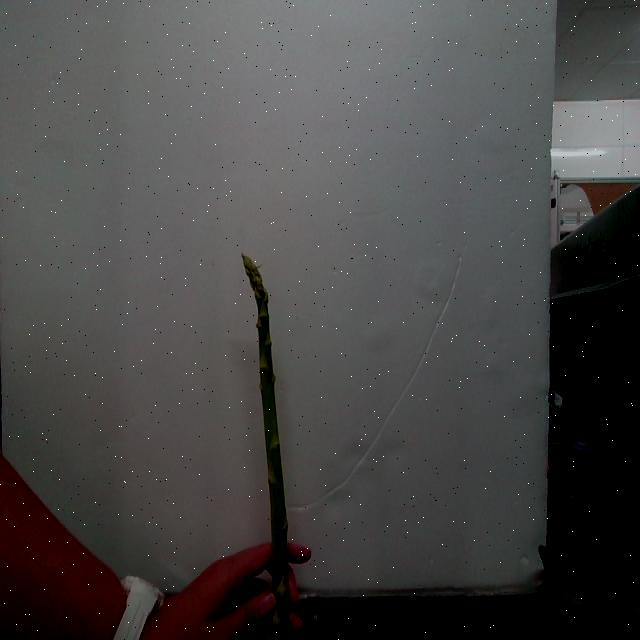aspargus: (243, 258, 295, 640)
